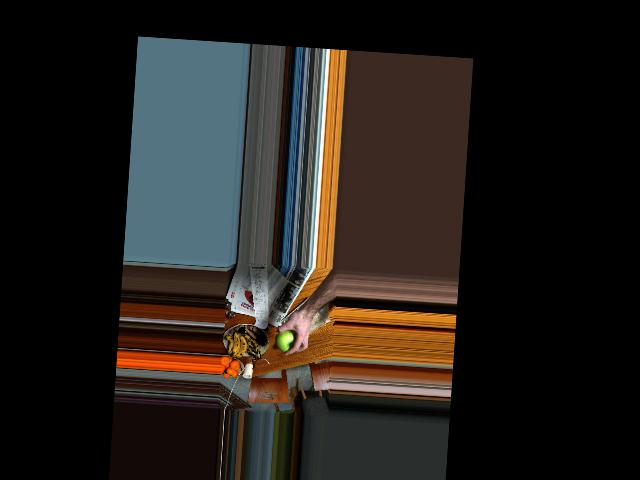apple: (274, 327, 299, 355)
